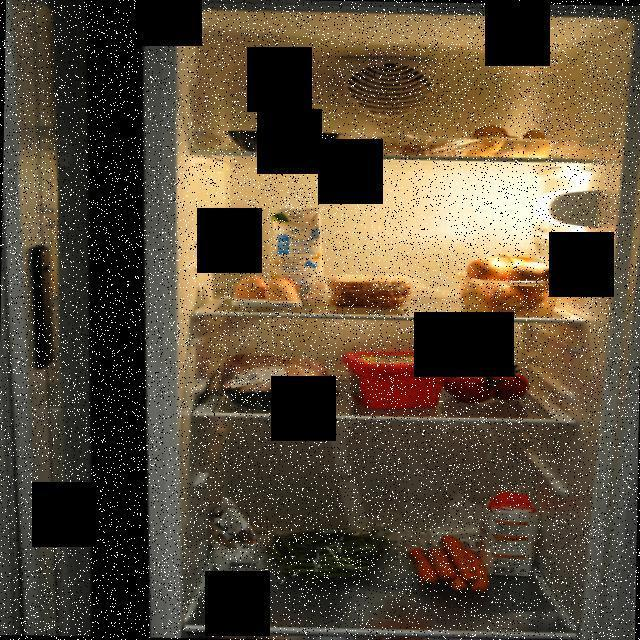Carrot: (410, 532, 490, 596)
Chicken: (216, 348, 336, 413)
Flour: (202, 502, 264, 579)
Potato: (462, 123, 555, 159)
Sugar: (481, 489, 544, 579)
Tomato: (442, 362, 533, 404)
